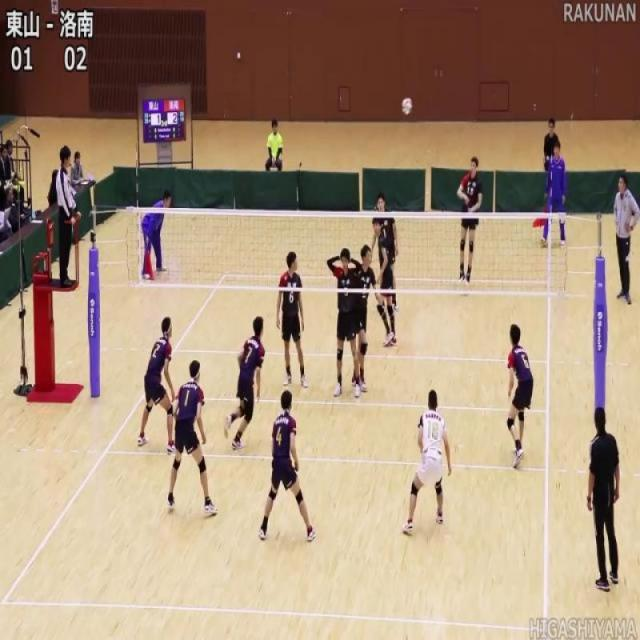volleyball: (401, 95, 414, 116)
